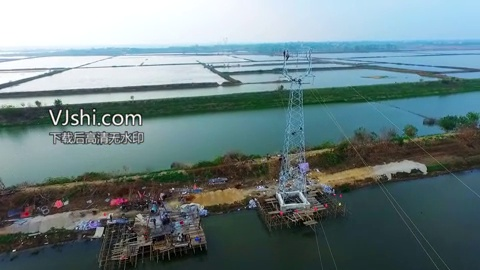tower_body: (274, 40, 319, 190)
tower_foot: (278, 164, 309, 189)
tower_head: (278, 44, 318, 83)
